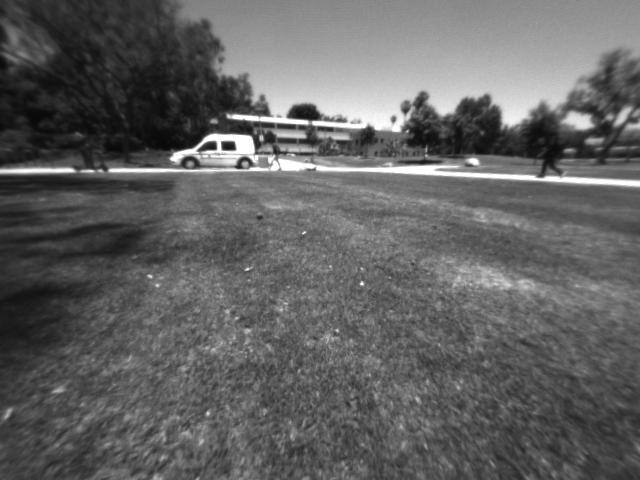dogtoy: (252, 206, 269, 223)
